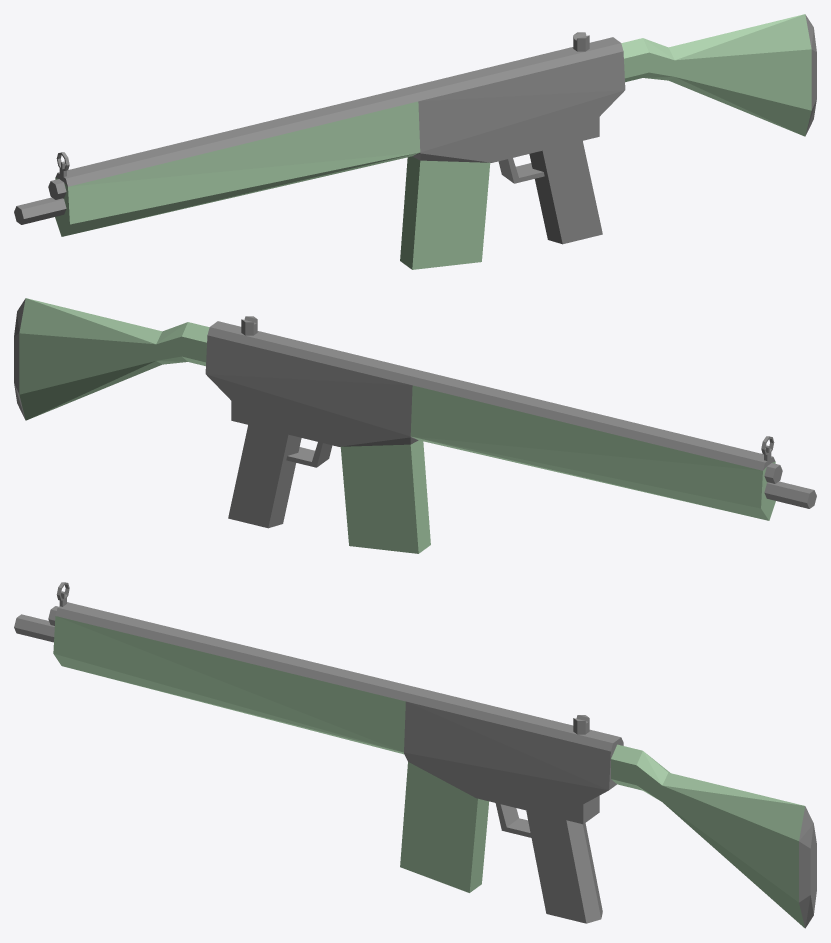
The picture shows the model from 3 angles, top to bottom: view 1: azimuth 30°, elevation 25°; view 2: azimuth 150°, elevation 25°; view 3: azimuth 330°, elevation 25°; orthographic projection.
Parts seen in each view (by area): view 1: G3; view 2: G3; view 3: G3.
Part boxes in pixels (<box>): G3: <box>14,14,816,269</box>; G3: <box>14,298,816,553</box>; G3: <box>14,582,816,928</box>.
Bounding box in the file's own units: 0.93 × 0.2297 × 0.0337.
